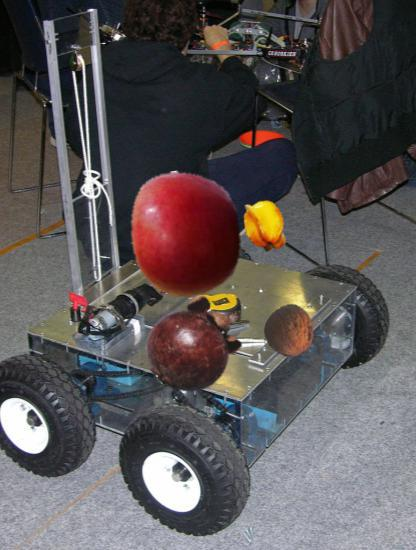Apple: (121, 170, 251, 300)
Carambula: (236, 197, 293, 254)
Mangostan: (144, 289, 250, 395)
Walnut: (263, 305, 317, 359)
